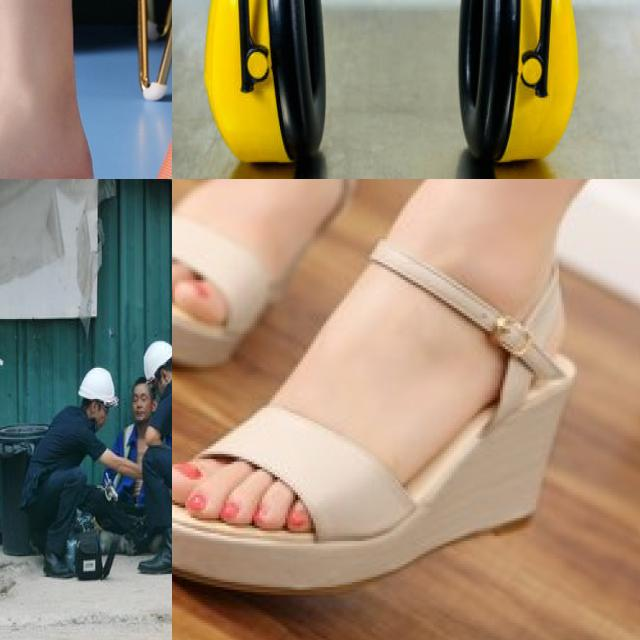Ear-protection: (178, 0, 605, 179)
Sandals: (172, 219, 582, 595), (0, 0, 172, 179)
boots: (135, 520, 172, 582)
face_nomask: (134, 382, 153, 426)
head_helmet: (82, 366, 117, 404), (143, 341, 172, 373)
head_nohelmet: (128, 369, 154, 389)
person: (20, 342, 110, 578), (141, 329, 172, 582), (125, 378, 155, 519)
